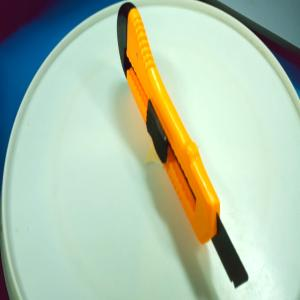estilete: (116, 1, 249, 290)
